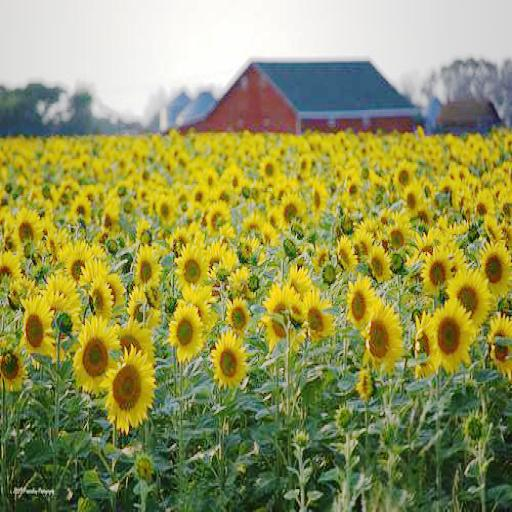sunflower: (106, 344, 154, 431), (75, 318, 123, 402), (430, 301, 475, 373), (262, 283, 303, 350), (362, 303, 402, 368), (450, 266, 490, 330), (168, 300, 204, 365), (22, 294, 56, 360), (211, 328, 247, 390), (173, 242, 213, 294), (481, 240, 512, 304), (303, 289, 335, 342), (421, 244, 452, 294), (490, 310, 512, 379), (132, 247, 165, 289), (66, 243, 91, 286), (276, 192, 305, 228), (90, 276, 113, 320), (204, 202, 231, 237), (223, 300, 250, 334), (369, 244, 392, 282), (309, 178, 327, 224), (338, 234, 358, 275), (15, 212, 39, 240), (392, 161, 413, 191), (261, 156, 278, 183)
